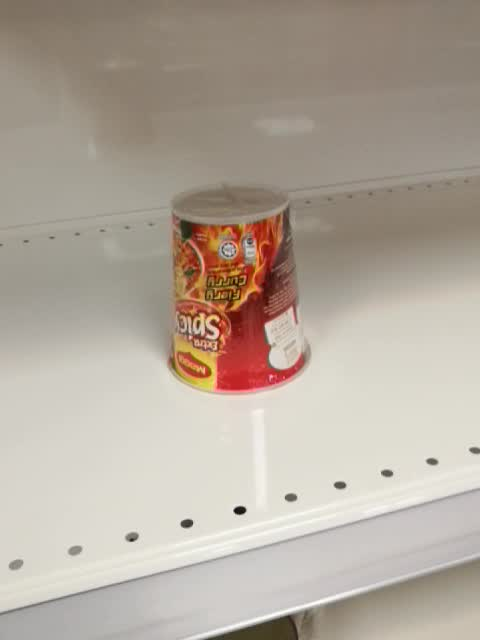maggi: (168, 183, 312, 396)
